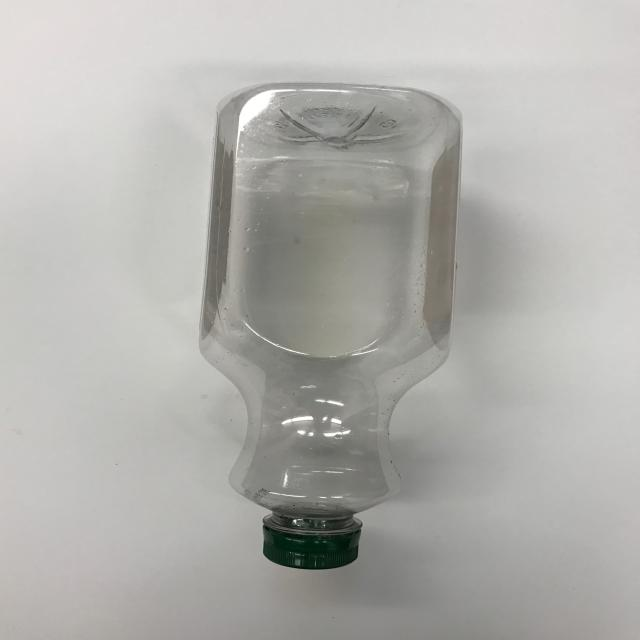plastic: (197, 81, 464, 565)
